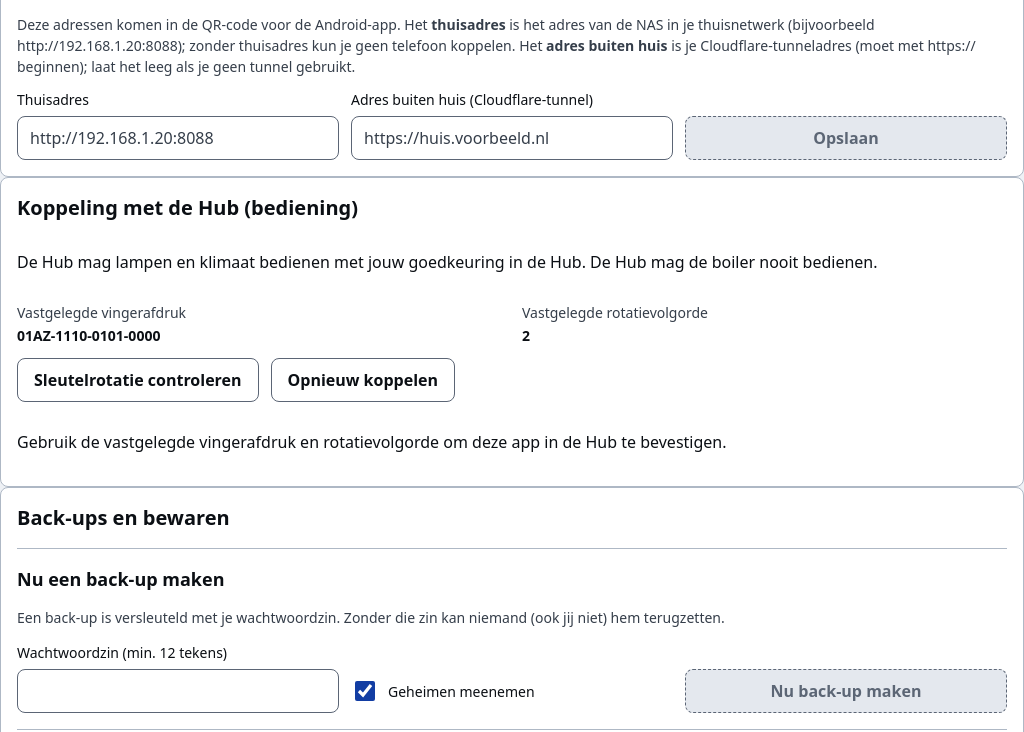
Scenario: toont oude en nieuwe vingerafdruk en legt niets vast bij annuleren
(page scrolled)
Click the button "Sleutelrotatie controleren". click: point(138, 380)
box: [17,358,258,402]
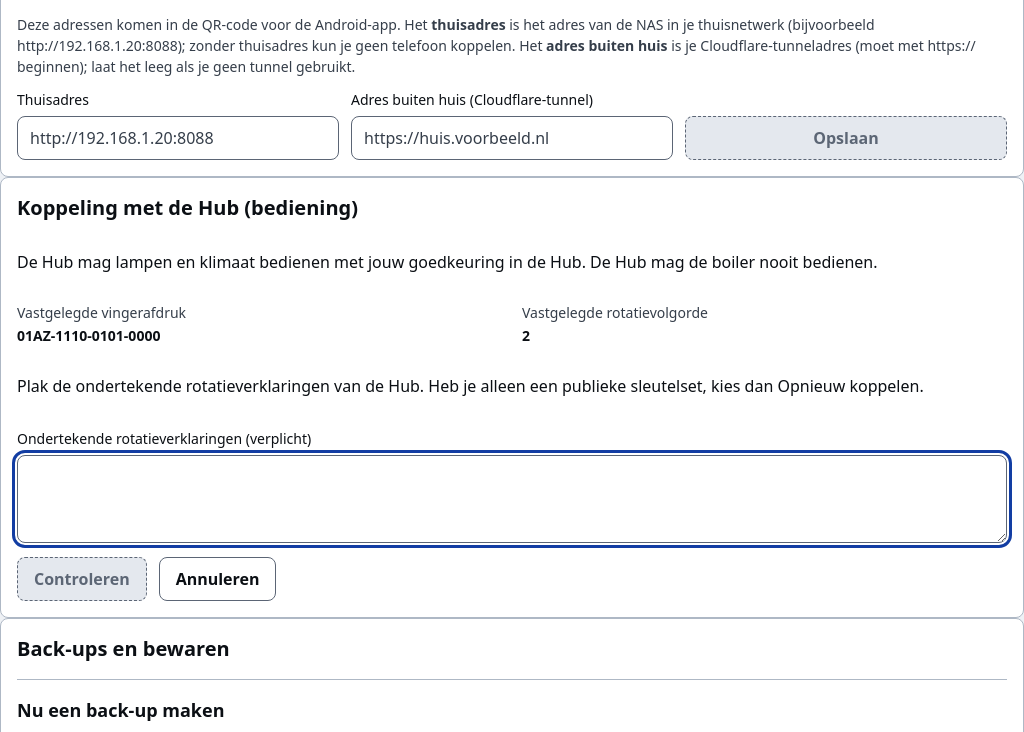
Type "verklaringen uit de Hub" into the text box labelled "Ondertekende rotatieverklaringen (verplicht)". click: point(512, 499)
box: [17,455,1007,543]
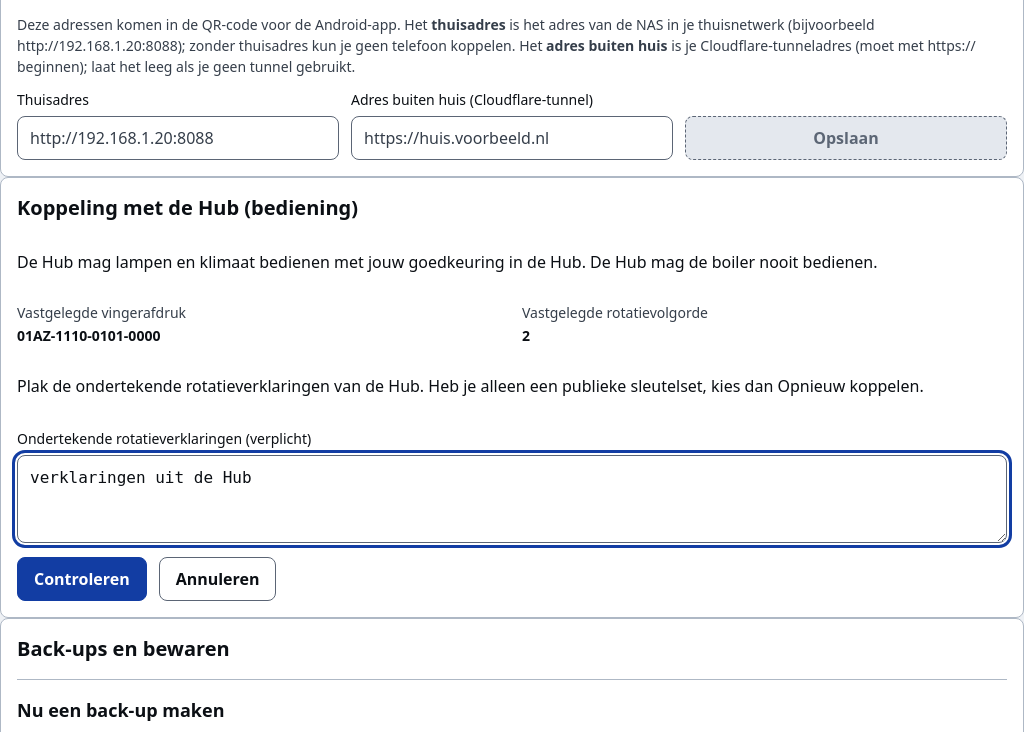
Click the button "Controleren". click: point(82, 579)
box: [17,557,147,601]
(page scrolled)
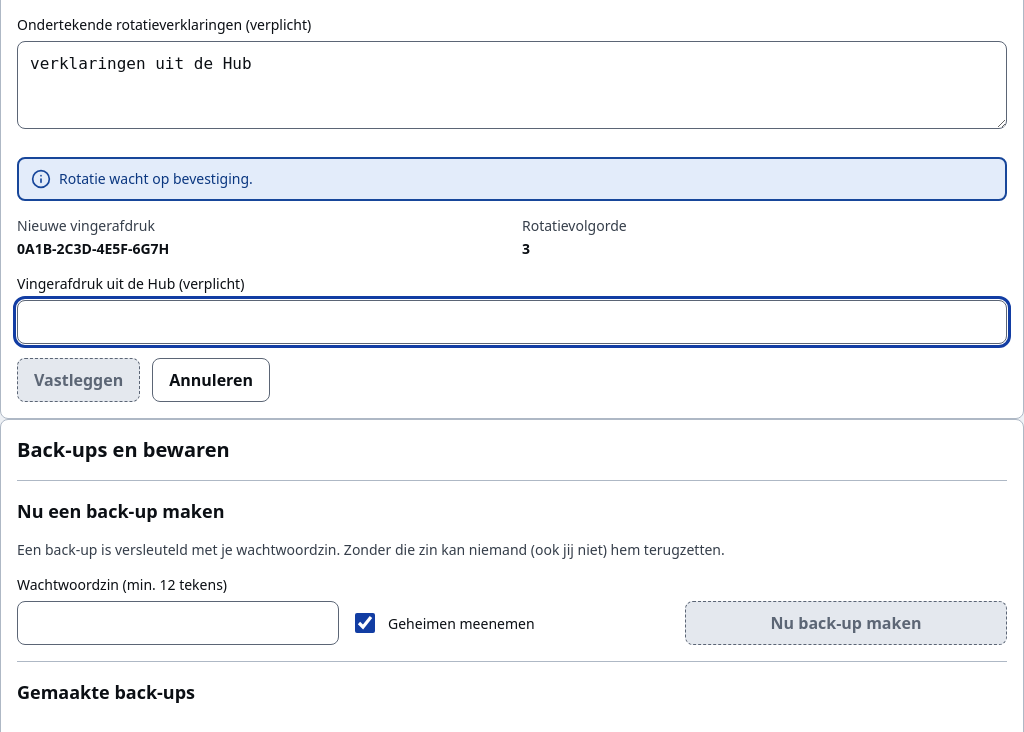
Expected: the text "Rotatie wacht op bevestiging." is shown, [17,157,1007,201]
Expected: the text "0A1B-2C3D-4E5F-6G7H" is shown, [17,239,169,258]
Click the button "Annuleren". click: point(211, 380)
box: [152,358,270,402]
(page scrolled)
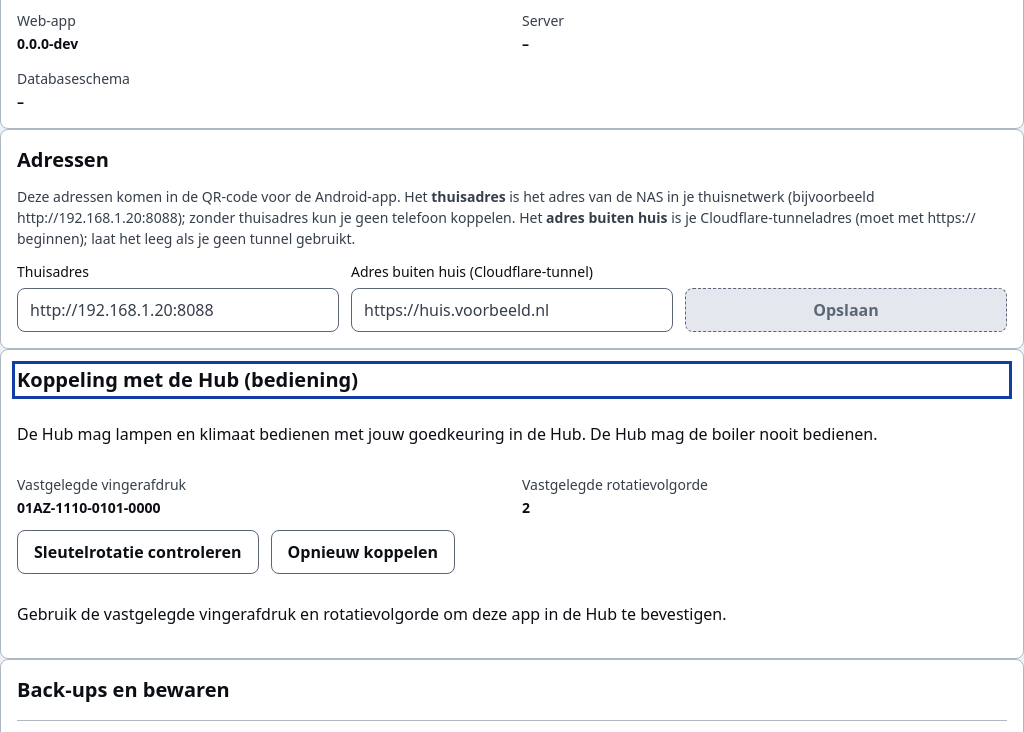
Expected: the text "01AZ-1110-0101-0000" is shown, [17,498,160,517]
Expected: the text "0A1B-2C3D-4E5F-6G7H" is gone
